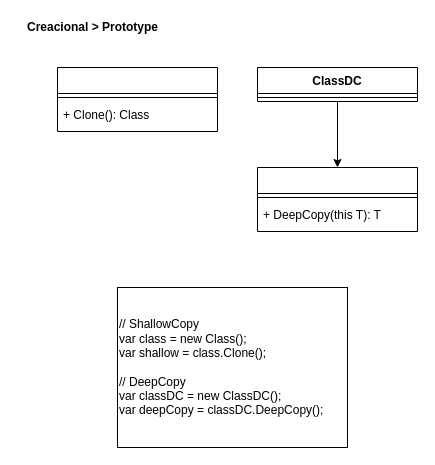
Image size: 435x465. Some labels were removed from this diagram. The shapes that lost their labels are listed below. From the top down, each one's box as (x1, y1, x2, y2) in pixels, then its label:
(56, 66, 218, 132): Class : ICloneable
(256, 166, 418, 232): ClassHelper
